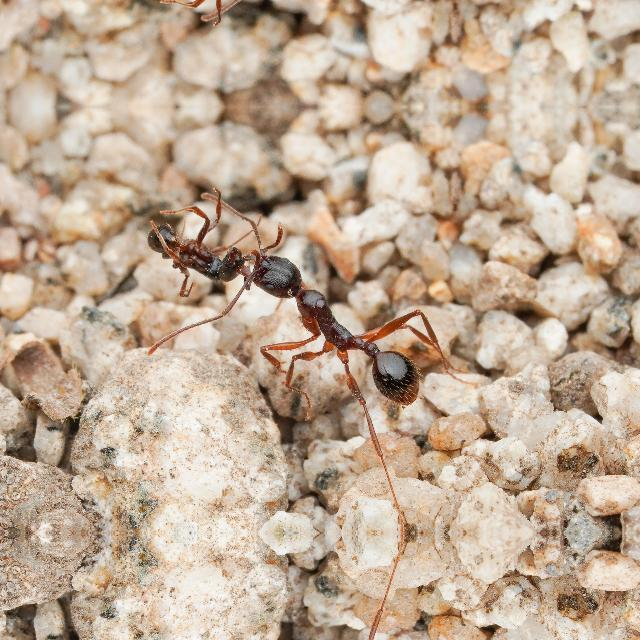Apheanogaster: (200, 225, 460, 420), (125, 202, 308, 308)
